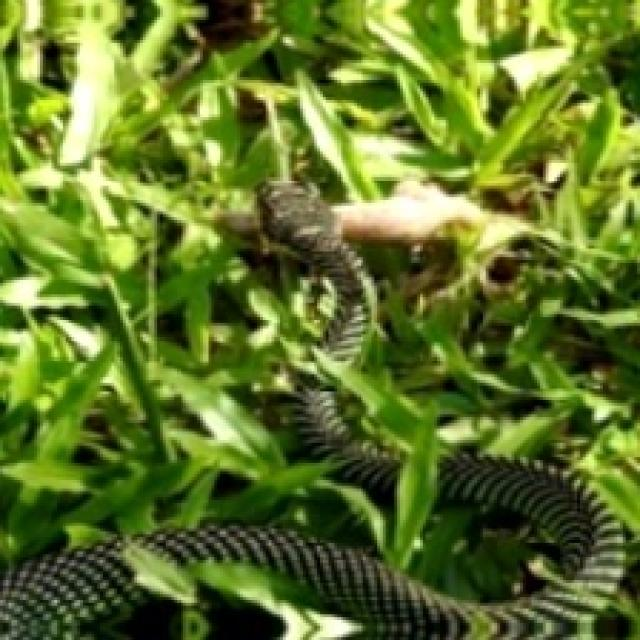paradise tree snake: (0, 380, 626, 640), (260, 183, 377, 369)
